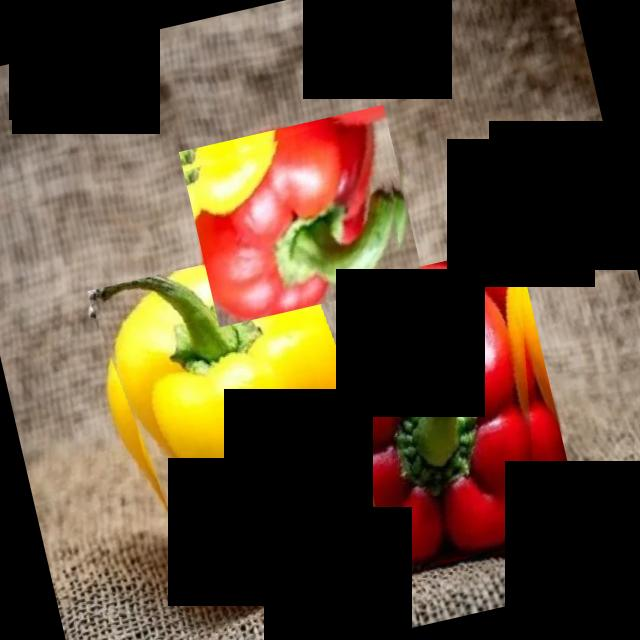pepper: (83, 238, 389, 618), (308, 243, 584, 580), (178, 104, 424, 327)
